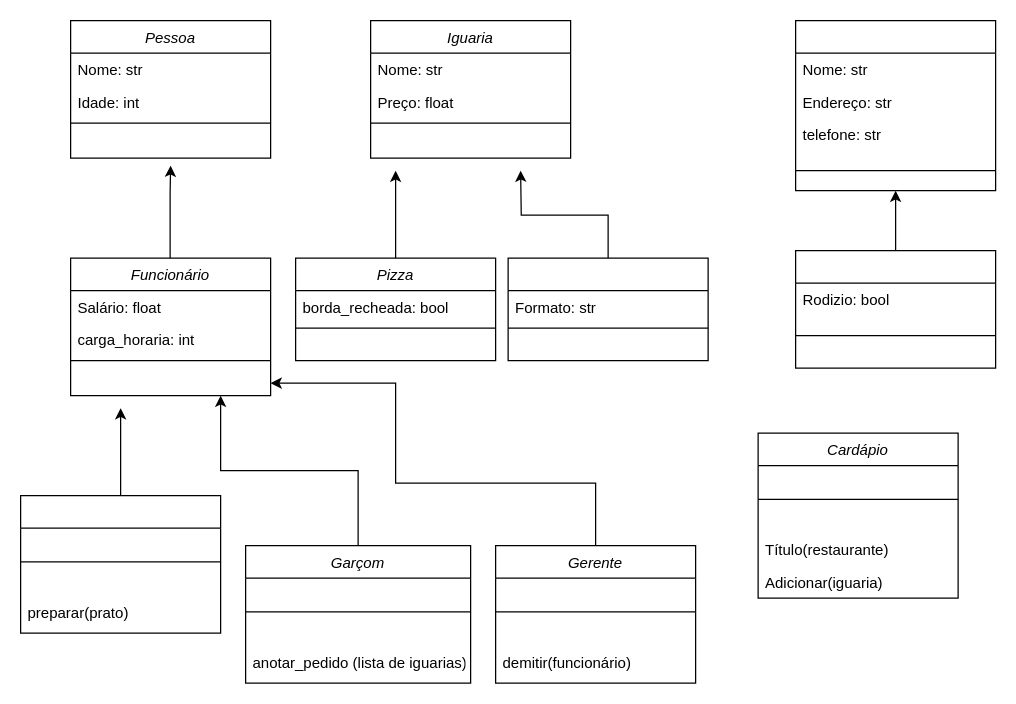
This 1016x704 diagram has some shape labels left out. Here are the shapes that lost their labels. From the top down, the box of each, then its label:
(794, 19, 996, 191): Restaurante
(507, 257, 708, 361): Bolo
(794, 249, 996, 368): Pizzaria
(19, 494, 221, 633): Chafe de cozinha
